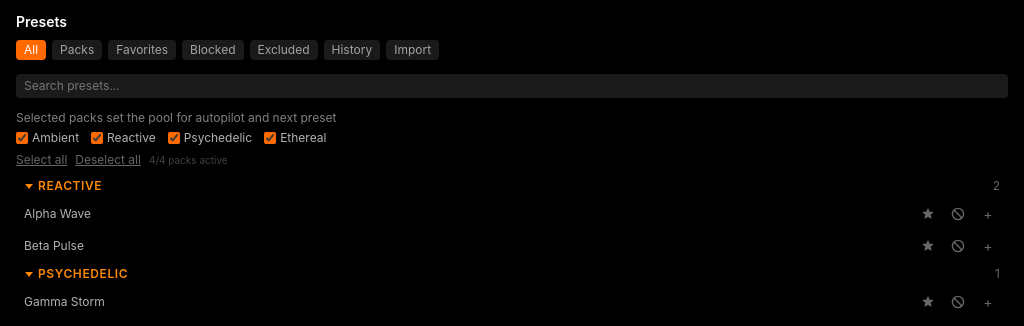
Test: PresetBrowser › filters presets by search
Type "gamma" into the field with placeholder "Search presets..." at [512, 86], box x1=16 y1=74 x2=1008 y2=98
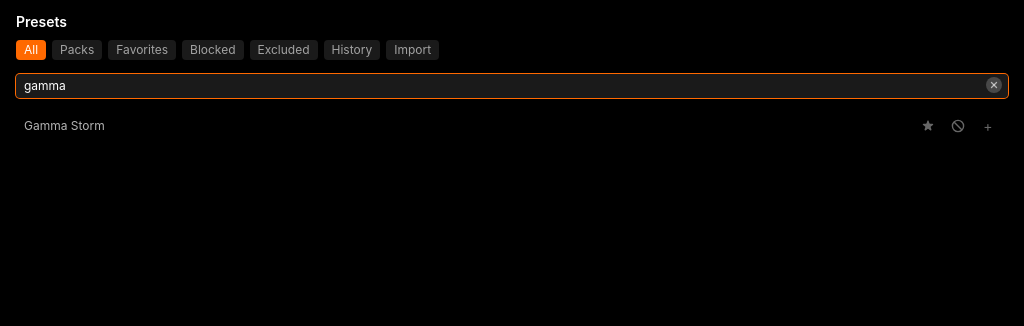
Check: the text "Gamma Storm" is shown, box x1=24 y1=118 x2=105 y2=133
Check: the button "Alpha Wave" is gone
Check: the button "Beta Pulse" is gone
